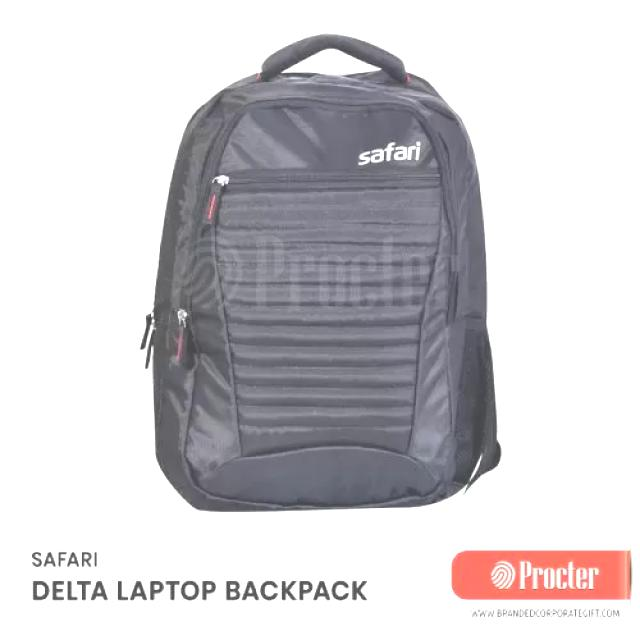backpack: (141, 33, 503, 513)
